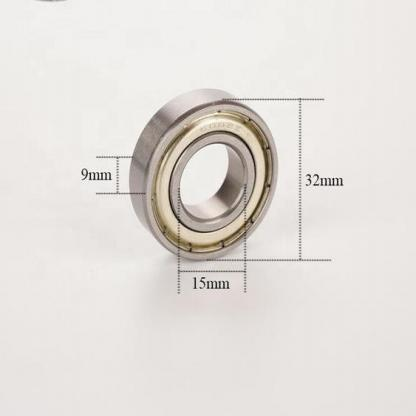FOD: (124, 84, 284, 262)
